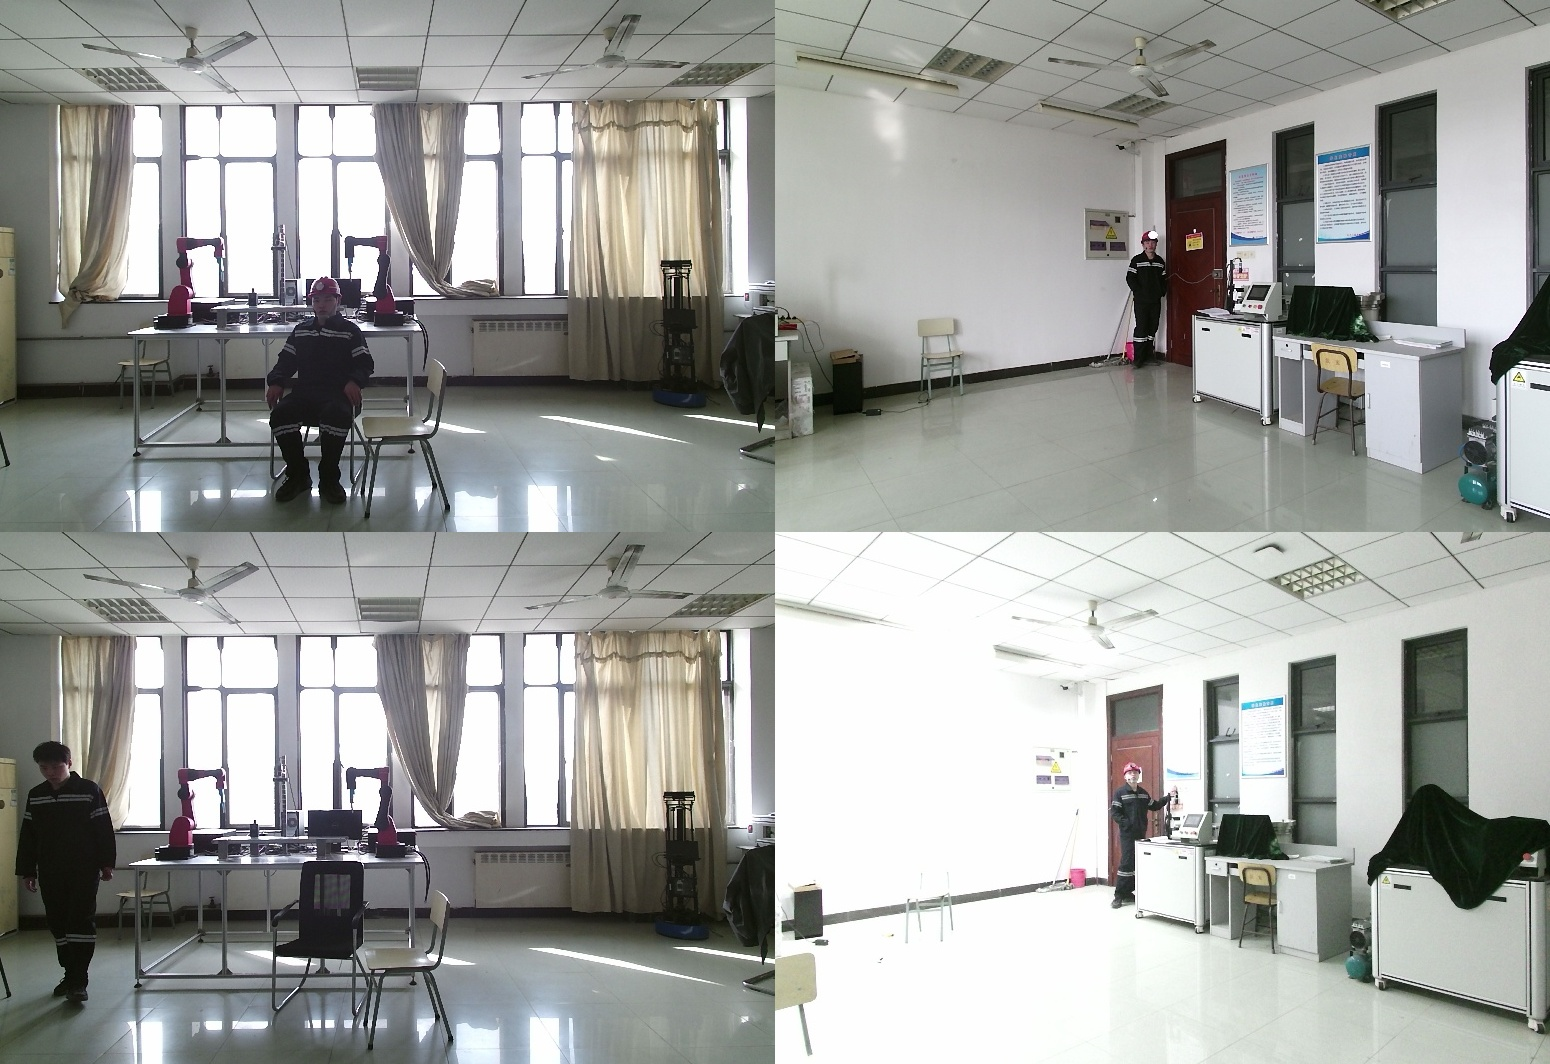person: (16, 741, 120, 997), (268, 278, 380, 504), (1108, 763, 1169, 907), (1124, 232, 1167, 371)
